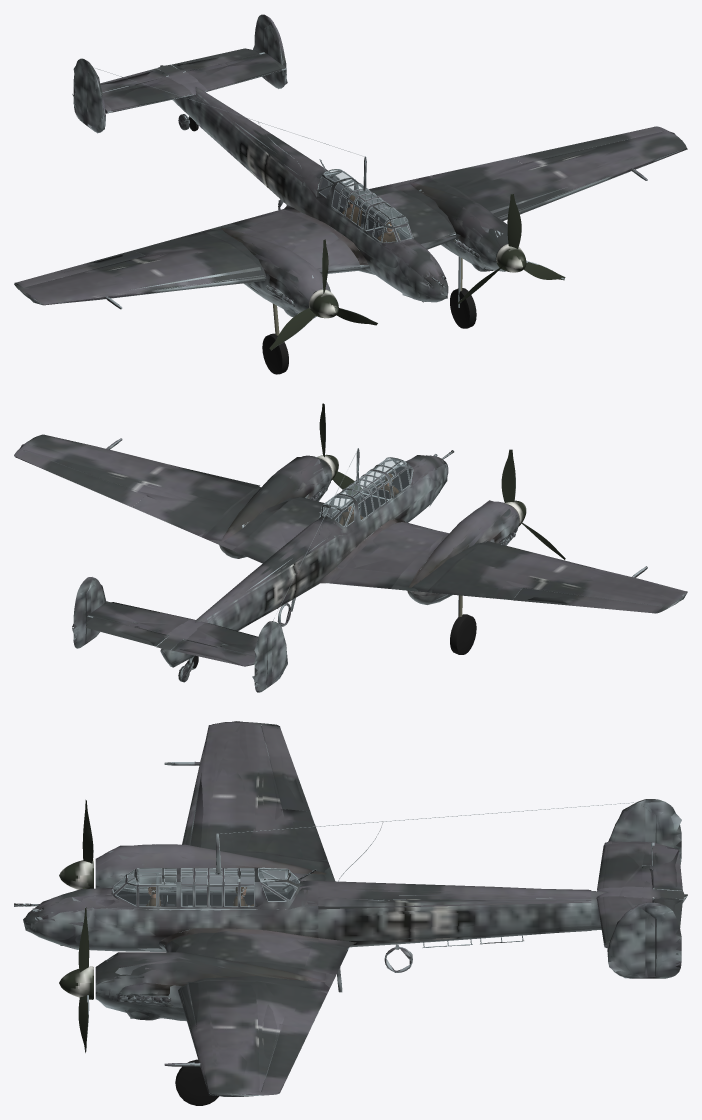
The picture shows the model from 3 angles, top to bottom: view 1: azimuth 30°, elevation 25°; view 2: azimuth 150°, elevation 25°; view 3: azimuth 270°, elevation 25°; orthographic projection. The views are drawn at different scales.
Visible parts, largest first — view 1: part_fuselage_lod1_src.002, part_fuselage_lod2_src.002, part_fuselage_lod0, part_wingLtip_lod0, part_wingRtip_lod0, part_tail_lod0, part_fuselage_aft_lod0, part_engine1_lod0, part_engine2_lod0, glass, part_wingR_lod0, blades_1 (+11 smaller); view 2: part_fuselage_lod1_src.002, part_fuselage_lod2_src.002, part_fuselage_lod0, part_wingLtip_lod0, part_fuselage_aft_lod0, part_wingRtip_lod0, part_tail_lod0, part_engine1_lod0, part_engine2_lod0, glass, ctl_aileron_L_lod0, ctl_aileron_R_lod0 (+10 smaller); view 3: part_fuselage_lod1_src.002, part_fuselage_lod2_src.002, part_fuselage_lod0, part_fuselage_aft_lod0, part_wingRtip_lod0, part_wingLtip_lod0, part_tail_lod0, part_engine1_lod0, glass, part_engine2_lod0, ctl_aileron_R_lod0, ctl_aileron_L_lod0 (+9 smaller).
Part boxes in pixels (bbox=[...]): part_fuselage_lod1_src.002: bbox=[14, 15, 686, 316]; part_fuselage_lod2_src.002: bbox=[15, 14, 687, 318]; part_fuselage_lod0: bbox=[107, 137, 647, 309]; part_wingLtip_lod0: bbox=[428, 126, 686, 219]; part_wingRtip_lod0: bbox=[14, 231, 264, 304]; part_tail_lod0: bbox=[73, 14, 286, 132]; part_fuselage_aft_lod0: bbox=[123, 77, 322, 214]; part_engine1_lod0: bbox=[391, 178, 507, 271]; part_engine2_lod0: bbox=[209, 223, 330, 317]; glass: bbox=[318, 169, 410, 242]; part_wingR_lod0: bbox=[201, 210, 359, 293]; blades_1: bbox=[457, 194, 565, 304]; part_fuselage_lod1_src.002: bbox=[14, 434, 686, 692]; part_fuselage_lod2_src.002: bbox=[18, 440, 687, 686]; part_fuselage_lod0: bbox=[109, 438, 647, 576]; part_wingLtip_lod0: bbox=[14, 434, 260, 536]; part_fuselage_aft_lod0: bbox=[200, 490, 342, 630]; part_wingRtip_lod0: bbox=[428, 547, 686, 613]; part_tail_lod0: bbox=[73, 577, 286, 692]; part_engine1_lod0: bbox=[209, 456, 331, 558]; part_engine2_lod0: bbox=[391, 501, 519, 604]; glass: bbox=[319, 458, 412, 525]; ctl_aileron_L_lod0: bbox=[19, 452, 157, 509]; ctl_aileron_R_lod0: bbox=[498, 588, 657, 612]; part_fuselage_lod1_src.002: bbox=[14, 722, 687, 1096]; part_fuselage_lod2_src.002: bbox=[23, 721, 687, 1095]; part_fuselage_lod0: bbox=[14, 762, 318, 1066]; part_fuselage_aft_lod0: bbox=[318, 804, 613, 992]; part_wingRtip_lod0: bbox=[182, 722, 327, 861]; part_wingLtip_lod0: bbox=[178, 981, 327, 1096]; part_tail_lod0: bbox=[565, 799, 687, 978]; part_engine1_lod0: bbox=[95, 952, 335, 1021]; glass: bbox=[113, 868, 298, 905]; part_engine2_lod0: bbox=[95, 844, 334, 888]; ctl_aileron_R_lod0: bbox=[262, 728, 309, 821]; ctl_aileron_L_lod0: bbox=[262, 1017, 310, 1091].
Bounding box in the file's own units: 16.35 × 4.48 × 12.47.
2 materials, 1 textured.
